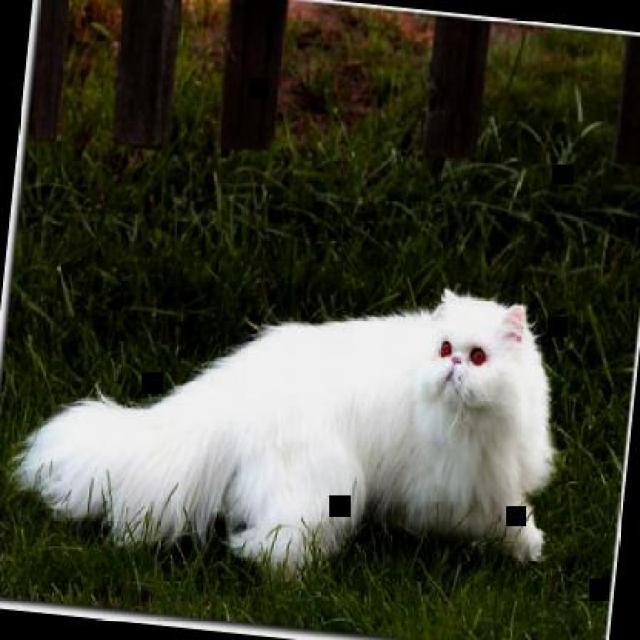cat: (8, 243, 566, 605)
